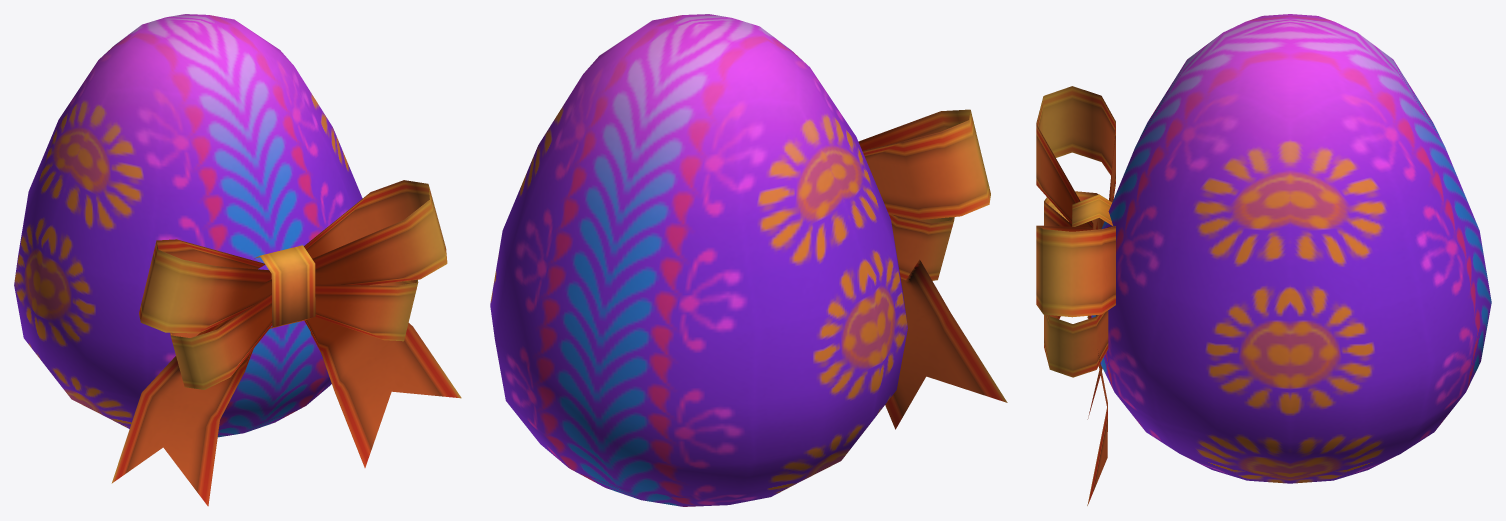
File: egg3.glb
3 renders of one model, left to right at view 1: azimuth 30°, elevation 25°; view 2: azimuth 150°, elevation 25°; view 3: azimuth 270°, elevation 25°, orthographic. The views are drawn at different scales.
Parts seen in each view (by area): view 1: Egg_Collect_2; view 2: Egg_Collect_2; view 3: Egg_Collect_2.
Boxes of the visible parts, left/top/right/bottom form: Egg_Collect_2: left=14, top=14, right=461, bottom=506; Egg_Collect_2: left=490, top=14, right=1007, bottom=506; Egg_Collect_2: left=1036, top=14, right=1491, bottom=505.
Size of the model in its own units: 1.11 by 1.21 by 1.13.
1 material, 1 textured.
